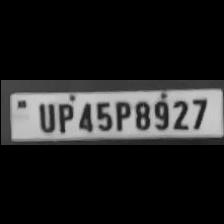2: (169, 96, 189, 130)
4: (74, 99, 94, 131)
5: (92, 97, 112, 130)
7: (188, 96, 208, 128)
8: (131, 97, 151, 130)
9: (150, 96, 170, 130)
P: (53, 100, 73, 132), (111, 97, 130, 130)
U: (32, 98, 56, 132)
